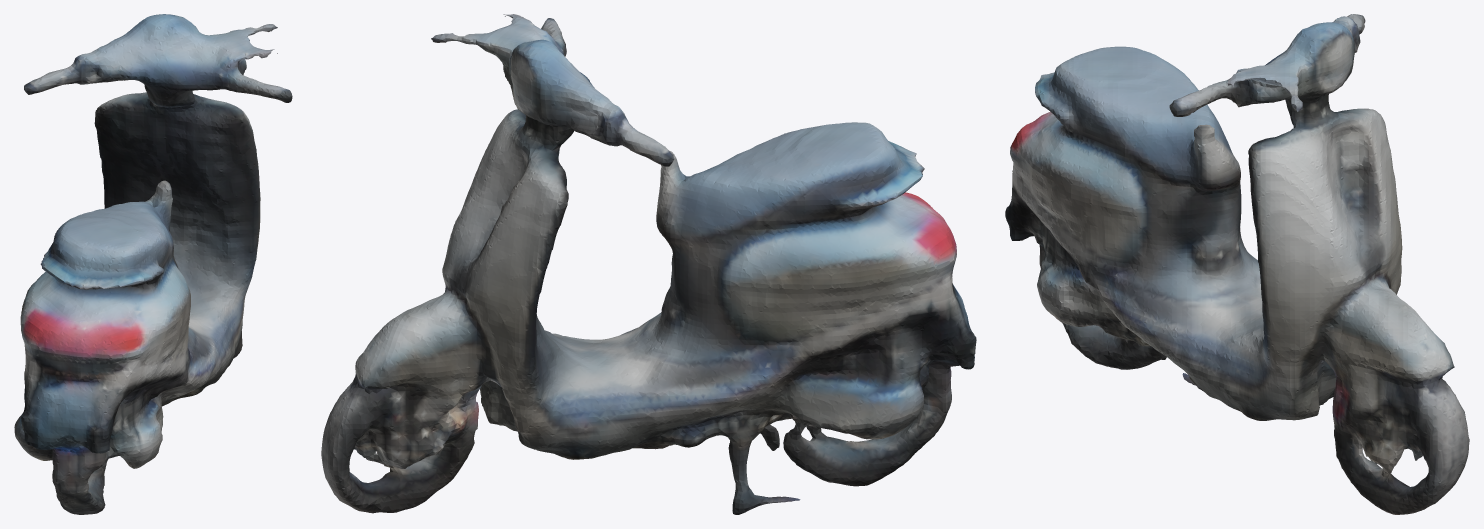
File: full.glb
3 views of the same model, side by side, from view 1: azimuth 30°, elevation 25°; view 2: azimuth 150°, elevation 25°; view 3: azimuth 270°, elevation 25° (orthographic). The views are drawn at different scales.
Visible parts, largest first — view 1: world; view 2: world; view 3: world.
Part boxes in pixels (x1,y1,x2,y2): world: (14, 14, 292, 514); world: (321, 14, 976, 514); world: (1005, 14, 1469, 514).
Bounding box in the file's own units: 1.64 × 1.61 × 1.55.
